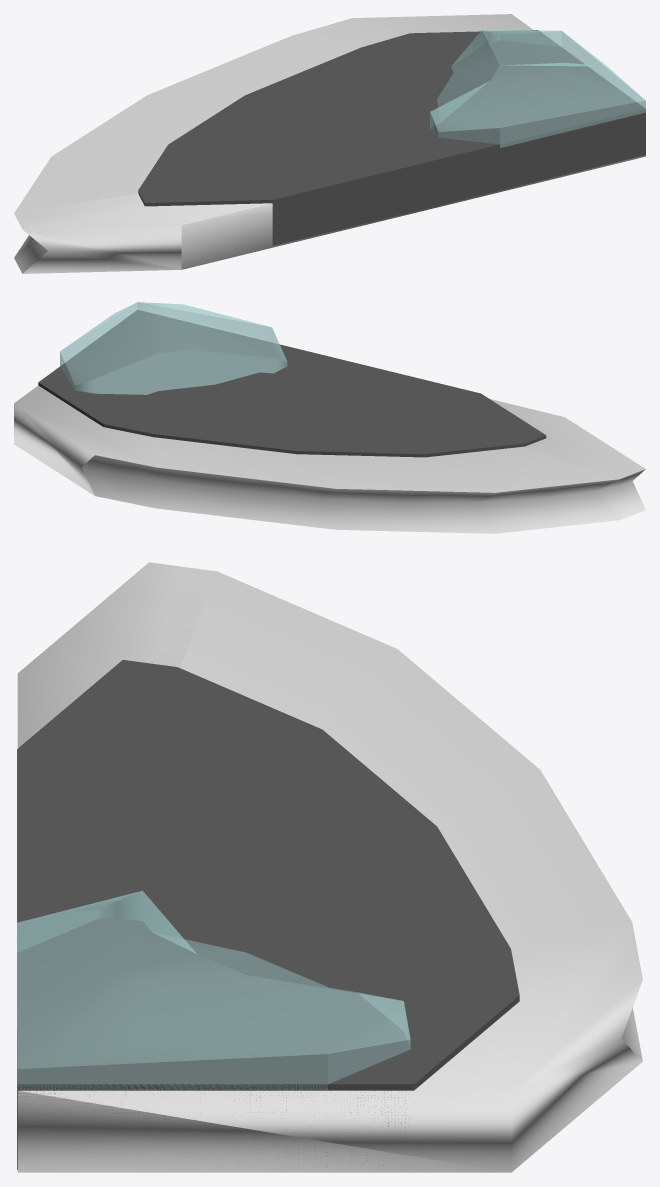
Rendered from kingCatPass.fbx.
3 renders of one model, top to bottom at view 1: azimuth 30°, elevation 25°; view 2: azimuth 150°, elevation 25°; view 3: azimuth 270°, elevation 25°, orthographic. The views are drawn at different scales.
Visible parts, largest first — view 1: polySurface23; view 2: polySurface23; view 3: polySurface23.
Boxes of the visible parts, left/top/right/bottom form: polySurface23: left=14, top=14, right=645, bottom=273; polySurface23: left=14, top=302, right=645, bottom=533; polySurface23: left=17, top=562, right=642, bottom=1172.
Size of the model in its own units: 145 by 18.99 by 72.64.
